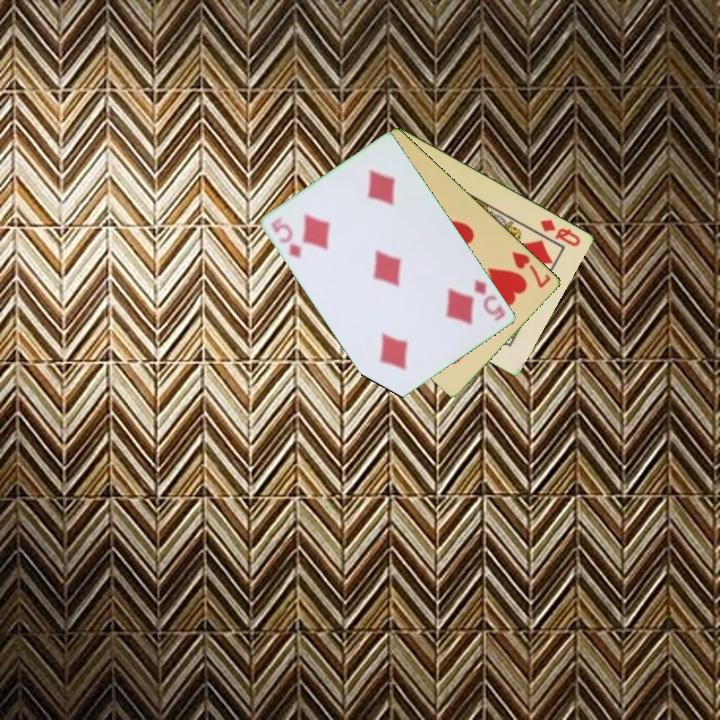5d: (470, 275, 509, 324), (268, 213, 305, 261)
7h: (509, 248, 554, 291)
Qd: (537, 216, 584, 249)
